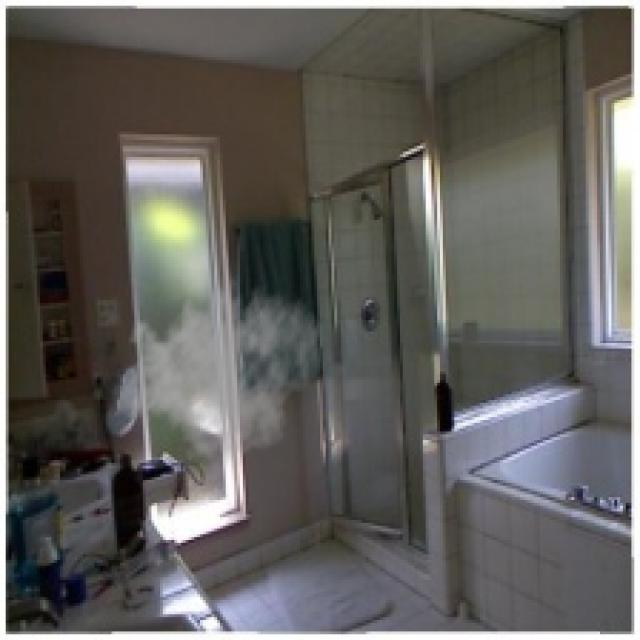smoke: (114, 266, 326, 471)
